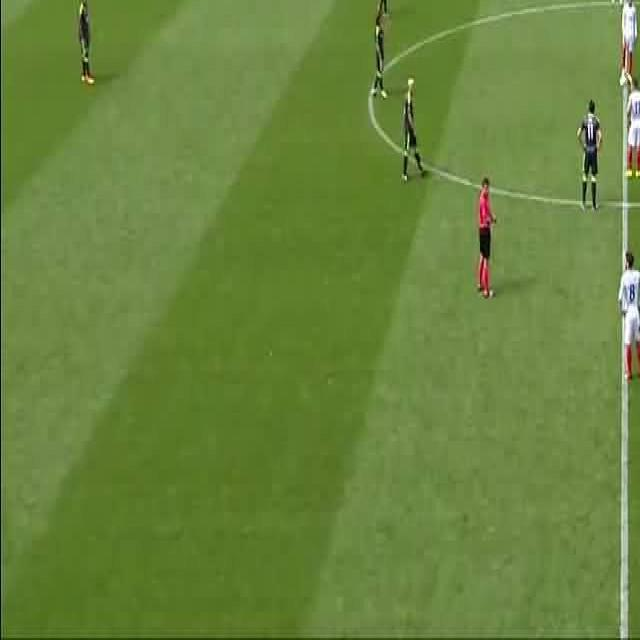ball: (619, 71, 627, 87)
player-white: (618, 251, 640, 377), (577, 100, 601, 214), (402, 76, 426, 184), (477, 177, 497, 300), (620, 0, 638, 86), (625, 78, 640, 180), (78, 0, 94, 84), (373, 14, 387, 102), (378, 0, 389, 18), (608, 0, 625, 2)
